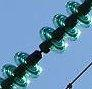gap: (14, 26, 68, 78)
